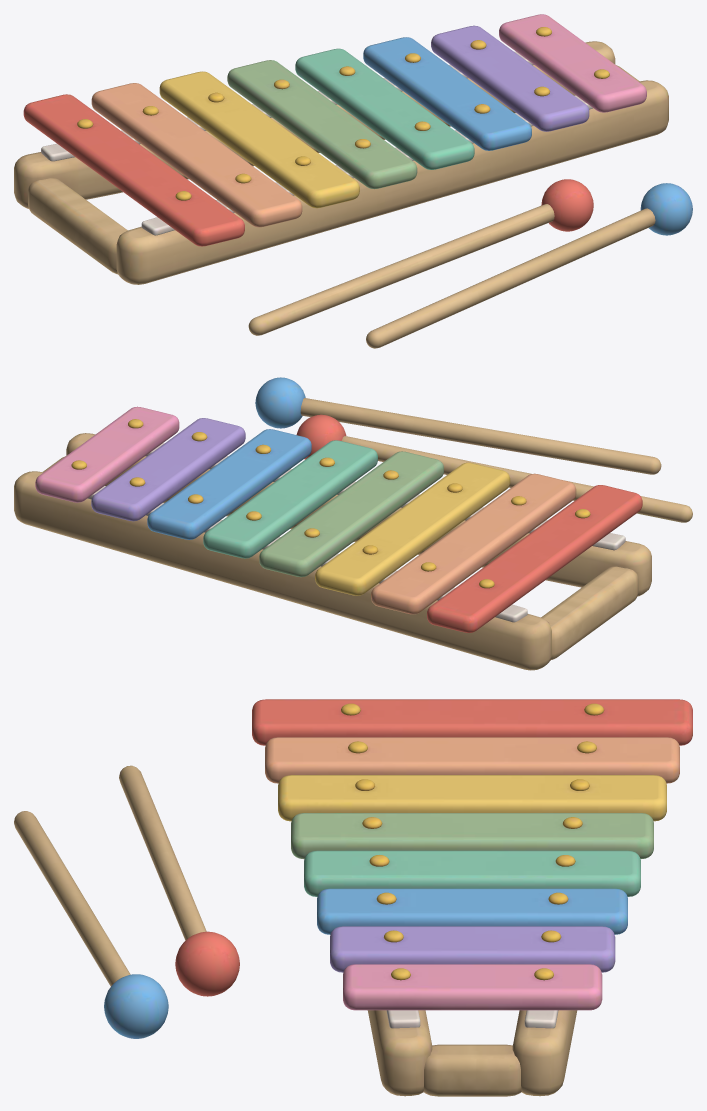
The model's file is xilofono.glb.
The picture shows the model from 3 angles, top to bottom: view 1: azimuth 30°, elevation 25°; view 2: azimuth 150°, elevation 25°; view 3: azimuth 270°, elevation 25°; orthographic projection. The views are drawn at different scales.
Visible parts, largest first — view 1: xylophone_body; view 2: xylophone_body; view 3: xylophone_body.
Boxes of the visible parts, box(x1,y1,x2,y2) form: xylophone_body: box(14, 14, 692, 348); xylophone_body: box(14, 377, 692, 670); xylophone_body: box(14, 699, 692, 1096).
Bounding box in the file's own units: 0.3137 × 0.0387 × 0.2618.
Materials: 1 (1 with a texture image).
